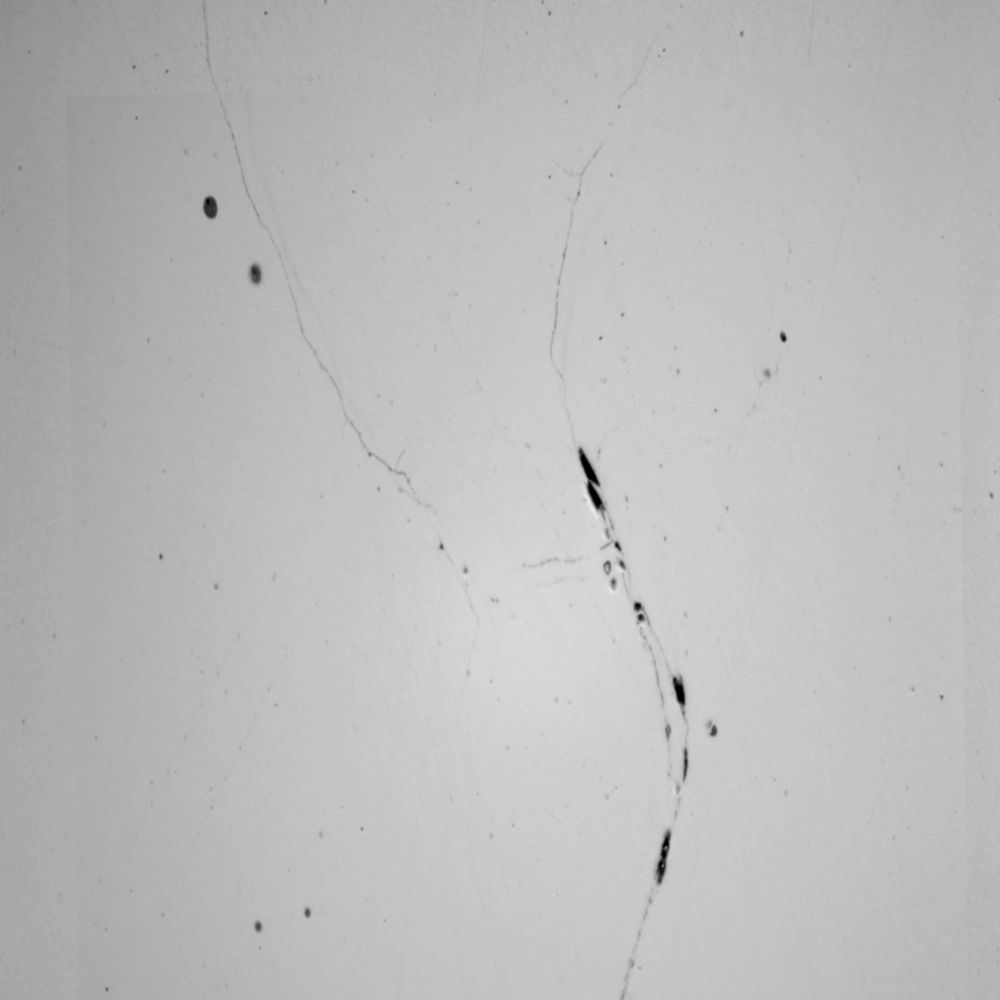crack: (505, 18, 809, 1000), (155, 15, 506, 657)
